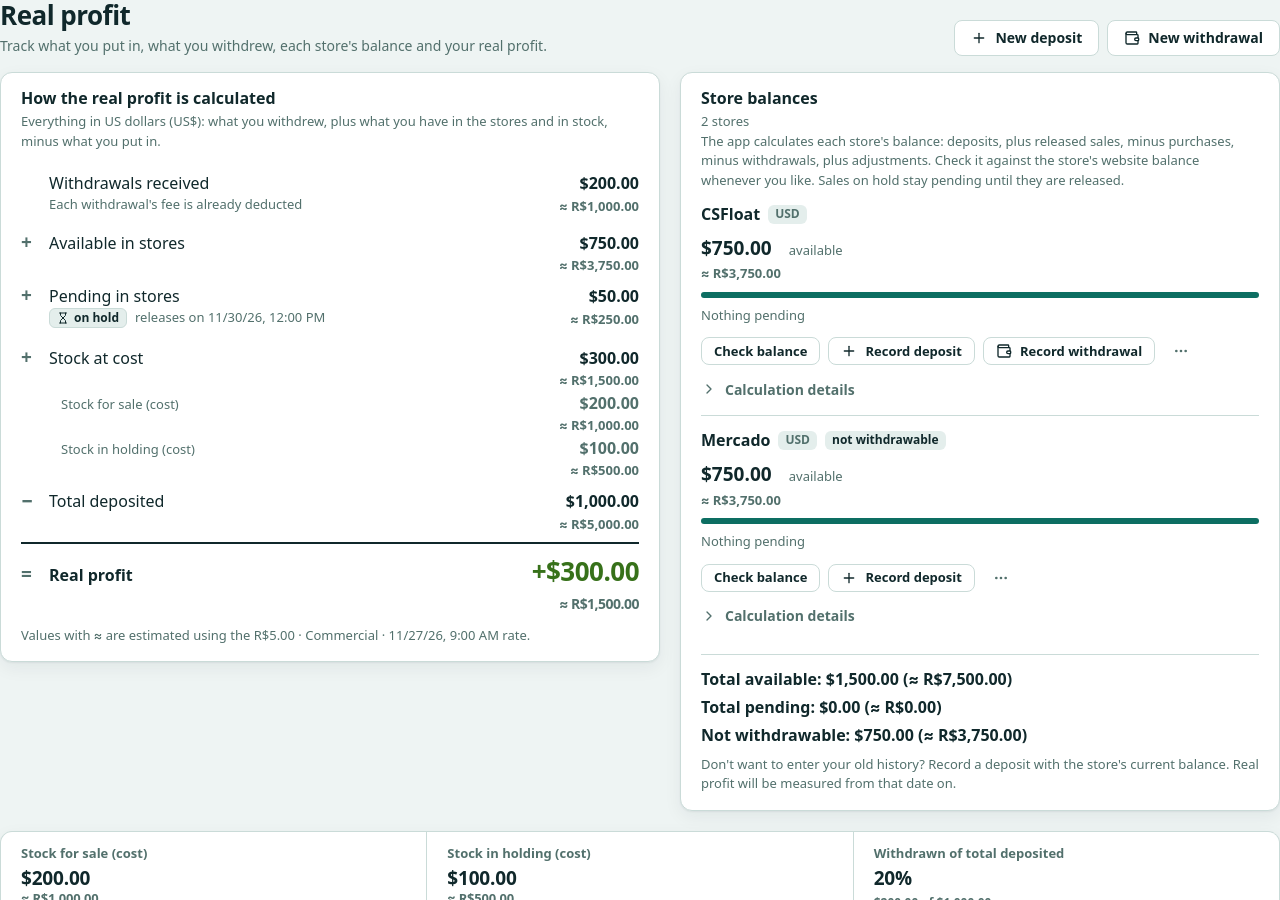
Scenario: página Lucro real (12.7b) › salvar um aporte recarrega o resumo, fecha o diálogo e mostra o aviso (invalidação da 8.7)
This screenshot has width=1280, height=900.
Expected: the text "CSFloat" is shown, [701, 202, 760, 226]
Click the button "New deposit".
click(1027, 38)  # box [954, 20, 1099, 56]
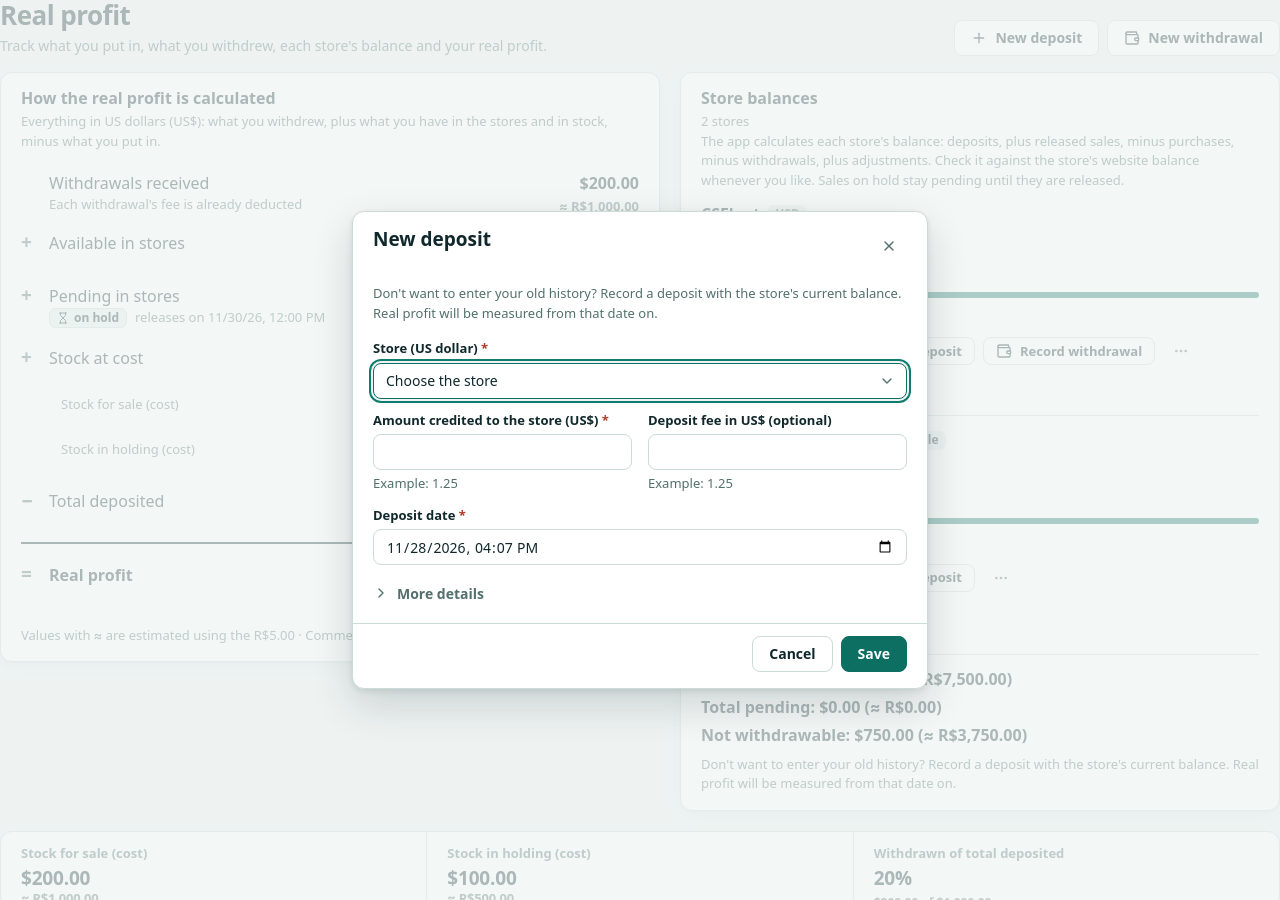
Select "CSFloat" in the dropdown labelled "Store (US dollar) *" at x=640, y=380, box [373, 362, 907, 398]
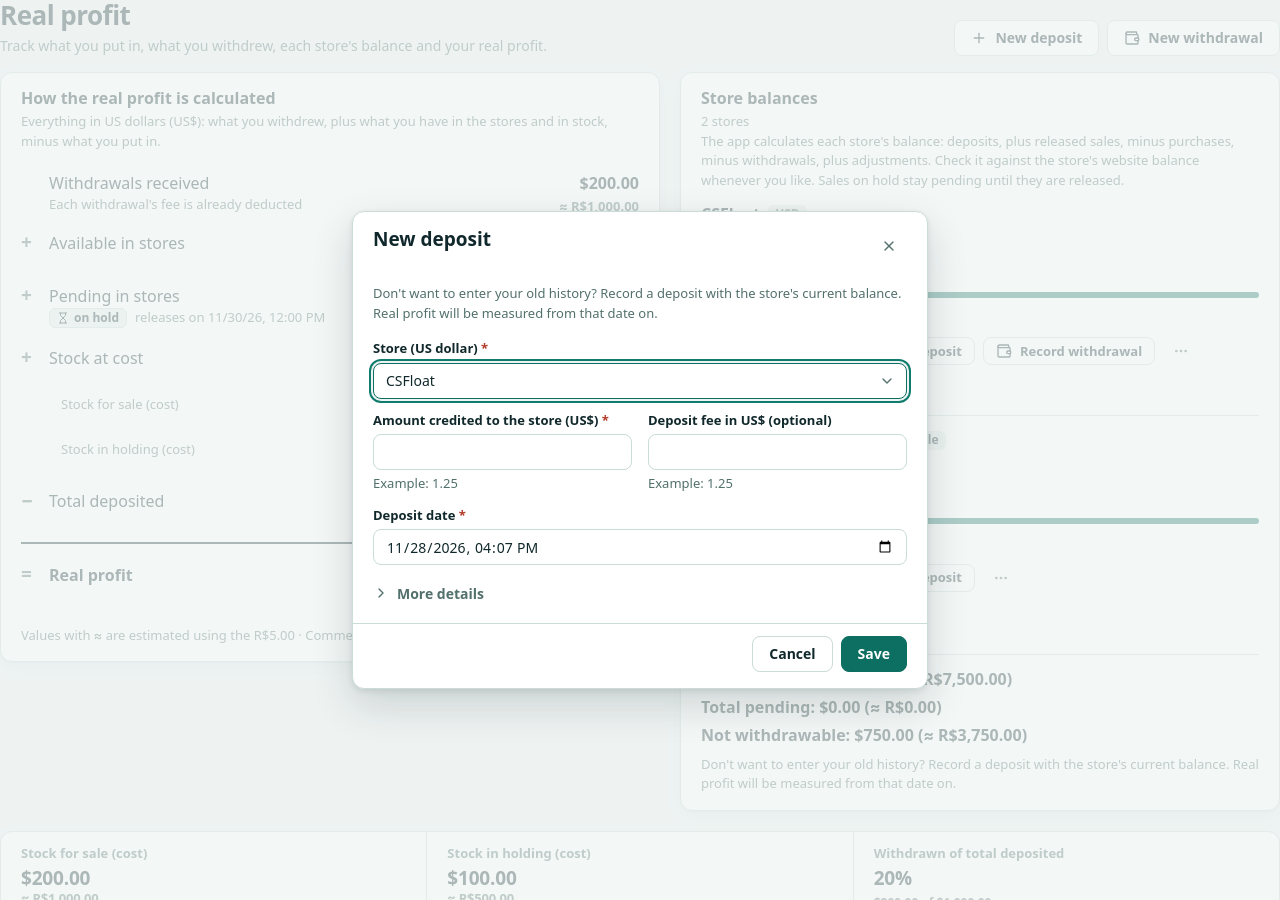
Type "100" into the field labelled "Amount credited to the store (US$) *".
click(502, 452); type("100")  # box [386, 435, 619, 469]
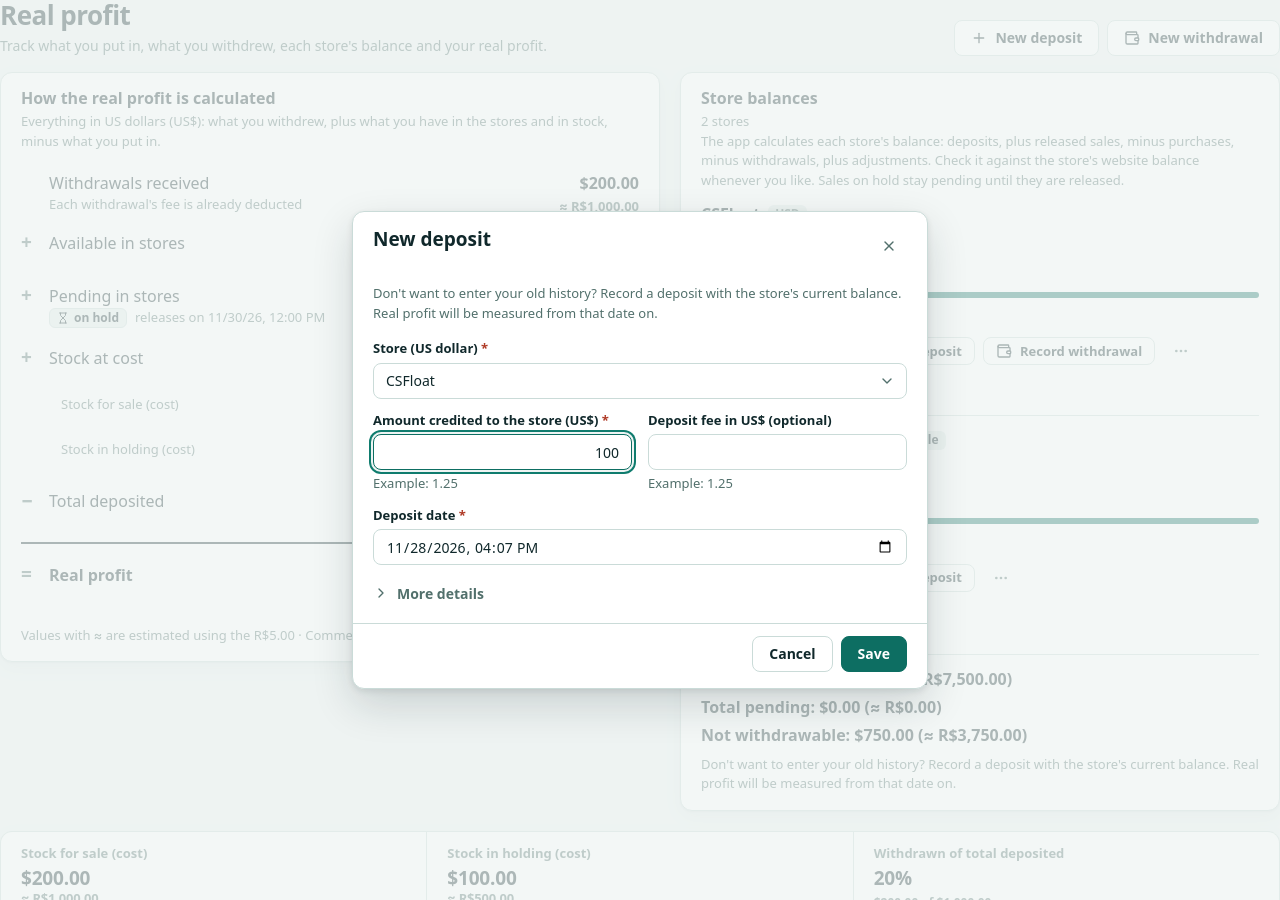
Click the button "Save".
click(874, 654)  # box [841, 636, 907, 672]
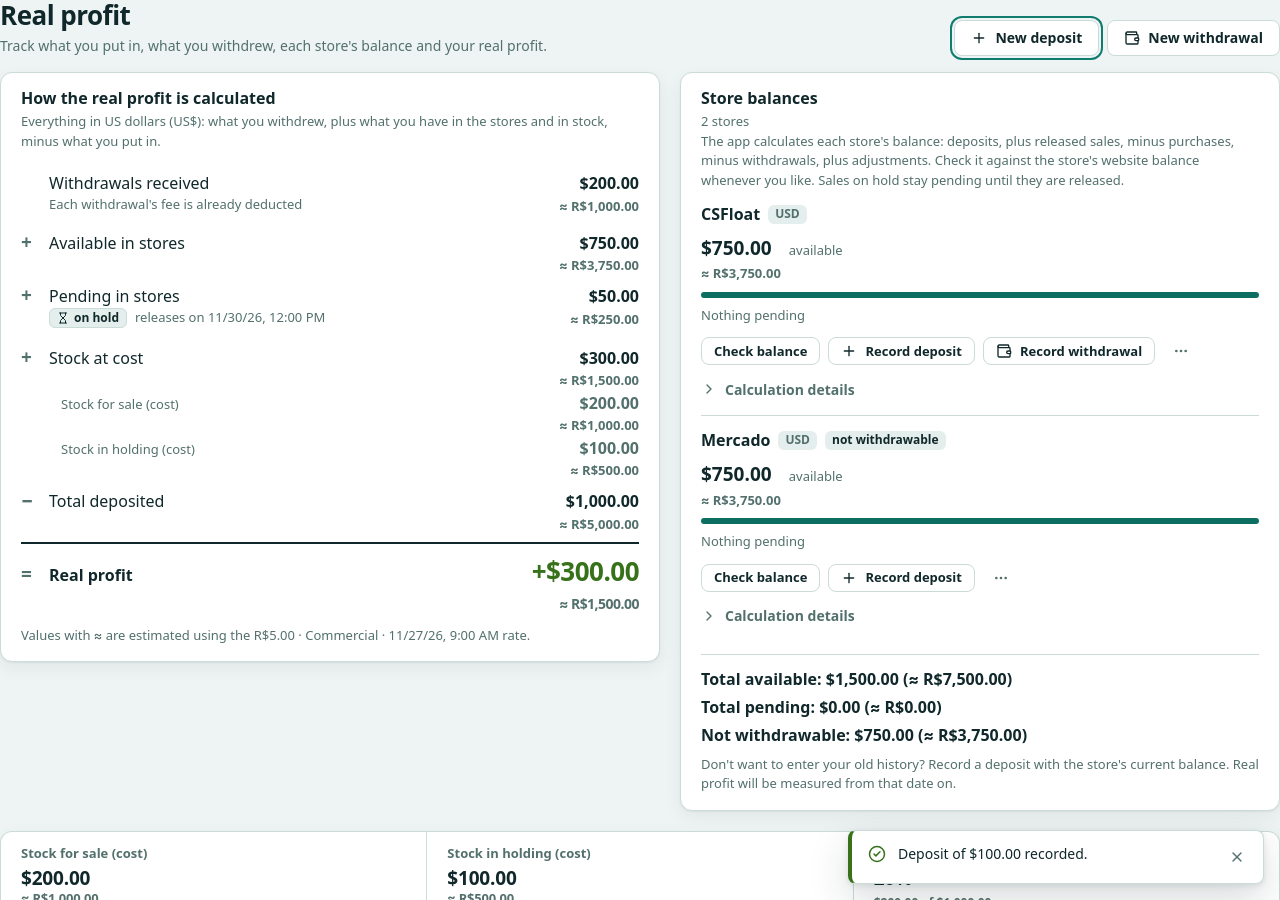
Expected: the text "Deposit of $100.00 recorded." is shown, [898, 844, 1088, 863]
Expected: the dialog is gone
